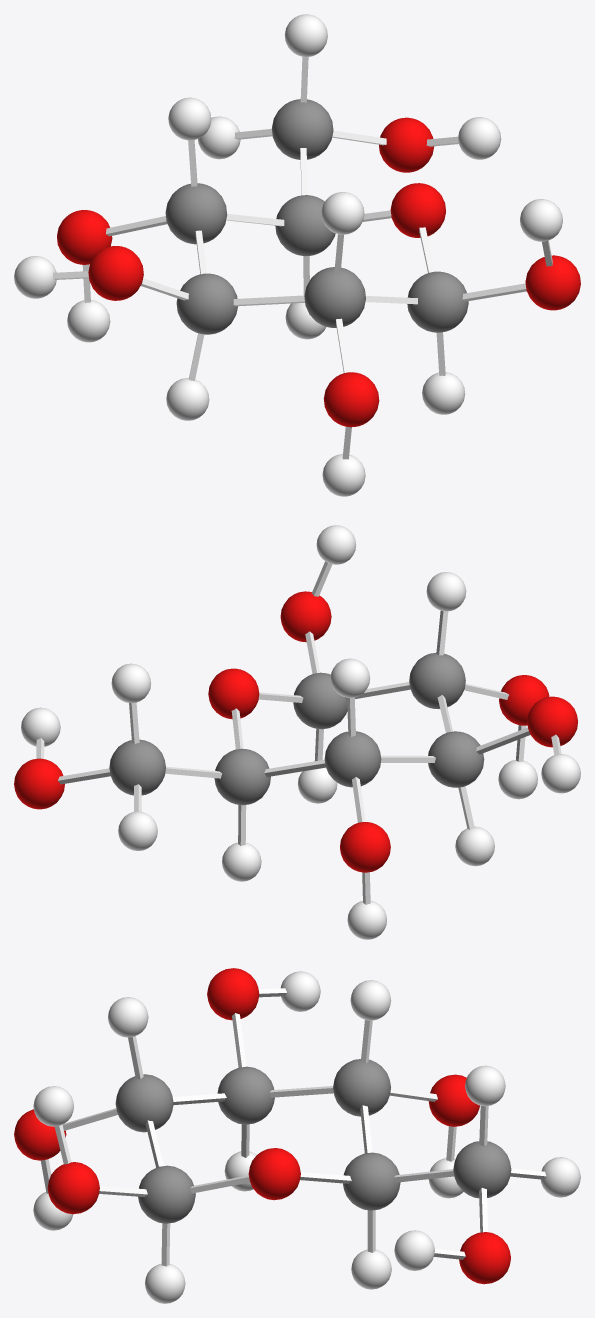
The model's file is Glucose4_sizecorr_hor.glb.
The picture shows the model from 3 angles, top to bottom: view 1: azimuth 30°, elevation 25°; view 2: azimuth 150°, elevation 25°; view 3: azimuth 270°, elevation 25°; orthographic projection. The views are drawn at different scales.
Visible parts, largest first — view 1: nodes[11], nodes[6], nodes[9], nodes[10], nodes[7], nodes[8], nodes[2], nodes[3], nodes[0], nodes[4], nodes[5], nodes[1] (+12 smaller); view 2: nodes[8], nodes[7], nodes[11], nodes[6], nodes[9], nodes[10], nodes[1], nodes[5], nodes[0], nodes[2], nodes[4], nodes[3] (+13 smaller); view 3: nodes[7], nodes[8], nodes[10], nodes[9], nodes[6], nodes[11], nodes[0], nodes[4], nodes[5], nodes[2], nodes[1], nodes[3] (+18 smaller).
Boxes of the visible parts, <box> form: nodes[11]: <box>271,99,333,159</box>; nodes[6]: <box>165,183,227,244</box>; nodes[9]: <box>304,267,365,327</box>; nodes[10]: <box>407,271,468,332</box>; nodes[7]: <box>176,273,237,334</box>; nodes[8]: <box>275,195,335,256</box>; nodes[2]: <box>88,246,143,300</box>; nodes[3]: <box>323,372,379,427</box>; nodes[0]: <box>390,183,445,237</box>; nodes[4]: <box>525,255,580,310</box>; nodes[5]: <box>379,117,434,172</box>; nodes[1]: <box>57,210,112,264</box>; nodes[8]: <box>214,748,270,805</box>; nodes[7]: <box>428,731,484,787</box>; nodes[11]: <box>109,739,165,795</box>; nodes[6]: <box>324,731,381,787</box>; nodes[9]: <box>409,653,465,709</box>; nodes[10]: <box>293,672,347,729</box>; nodes[1]: <box>340,822,390,872</box>; nodes[5]: <box>14,758,64,809</box>; nodes[0]: <box>208,668,259,719</box>; nodes[2]: <box>527,696,577,747</box>; nodes[4]: <box>280,591,331,642</box>; nodes[3]: <box>499,675,549,725</box>; nodes[7]: <box>217,1066,274,1124</box>; nodes[8]: <box>343,1152,400,1210</box>; nodes[10]: <box>138,1165,195,1223</box>; nodes[9]: <box>115,1074,173,1132</box>; nodes[6]: <box>333,1059,390,1116</box>; nodes[11]: <box>453,1141,511,1198</box>; nodes[0]: <box>248,1148,300,1200</box>; nodes[4]: <box>47,1162,99,1214</box>; nodes[5]: <box>459,1232,510,1284</box>; nodes[2]: <box>207,968,259,1020</box>; nodes[1]: <box>428,1074,479,1126</box>; nodes[3]: <box>14,1109,66,1160</box>.
Size of the model in its own units: 0.3954 by 0.1874 by 0.38.
